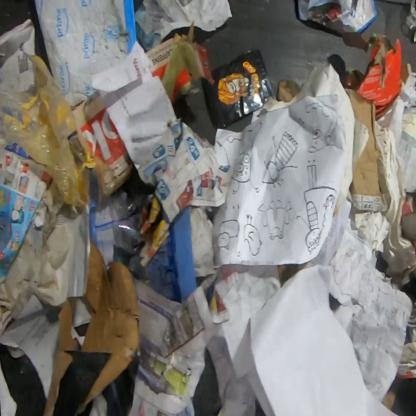cardboard: (71, 237, 143, 415), (72, 90, 138, 196), (142, 205, 198, 304), (356, 32, 412, 121), (145, 20, 216, 86), (42, 297, 80, 415), (344, 88, 382, 197), (0, 18, 37, 92), (170, 68, 194, 106), (276, 78, 302, 104), (400, 211, 415, 243)
rigid_plastic: (404, 0, 416, 31)
soft_plastic: (0, 53, 108, 213), (34, 0, 138, 109), (110, 185, 153, 257)
